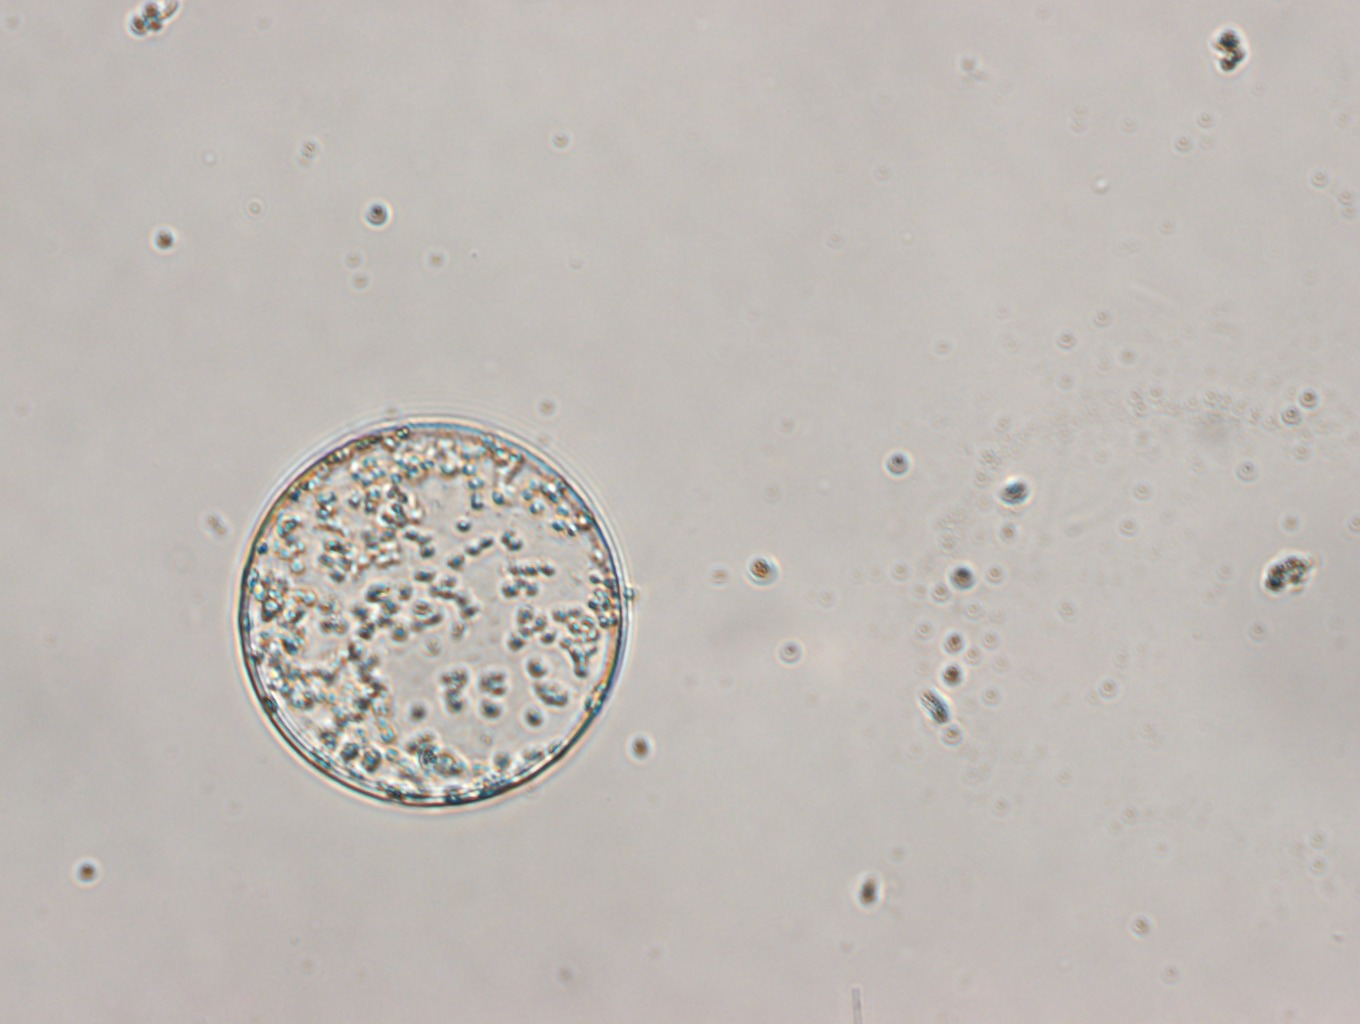coscinodiscus: (231, 409, 634, 815)
